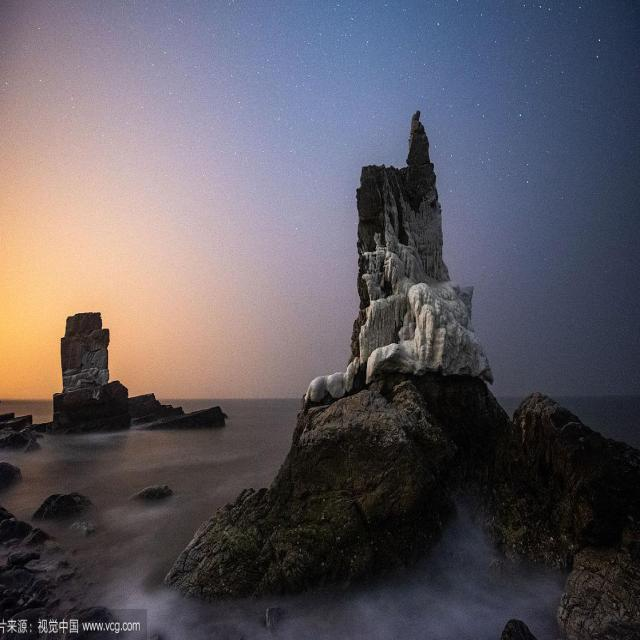reef: (264, 151, 618, 555), (50, 267, 224, 453)
